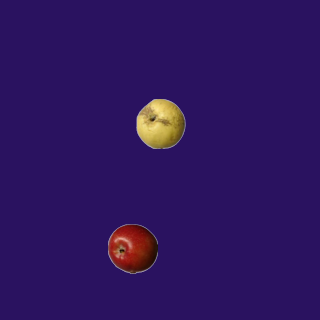Apple Braeburn: (107, 223, 157, 273)
Apple Golden 1: (135, 98, 185, 148)
